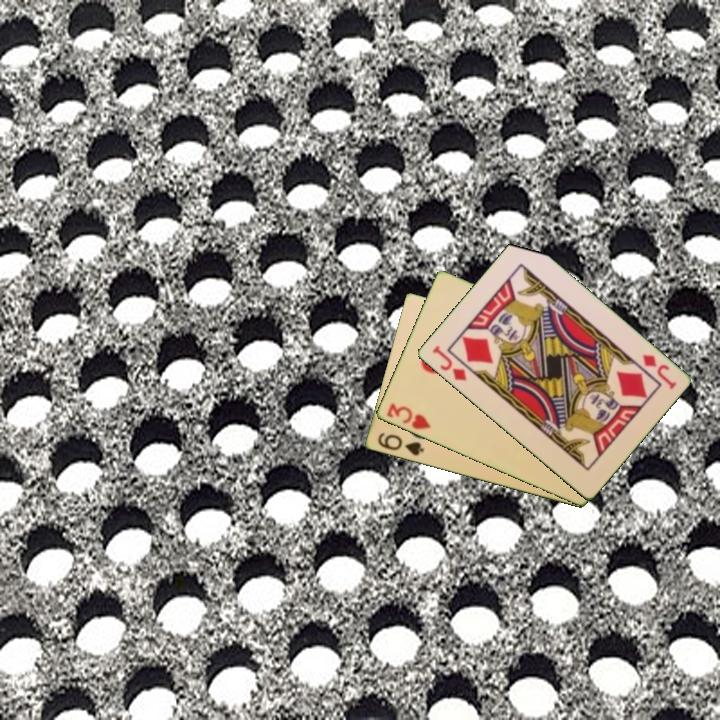3h: (383, 399, 434, 433)
6s: (374, 429, 426, 459)
Jd: (428, 342, 469, 384), (639, 351, 679, 393)
